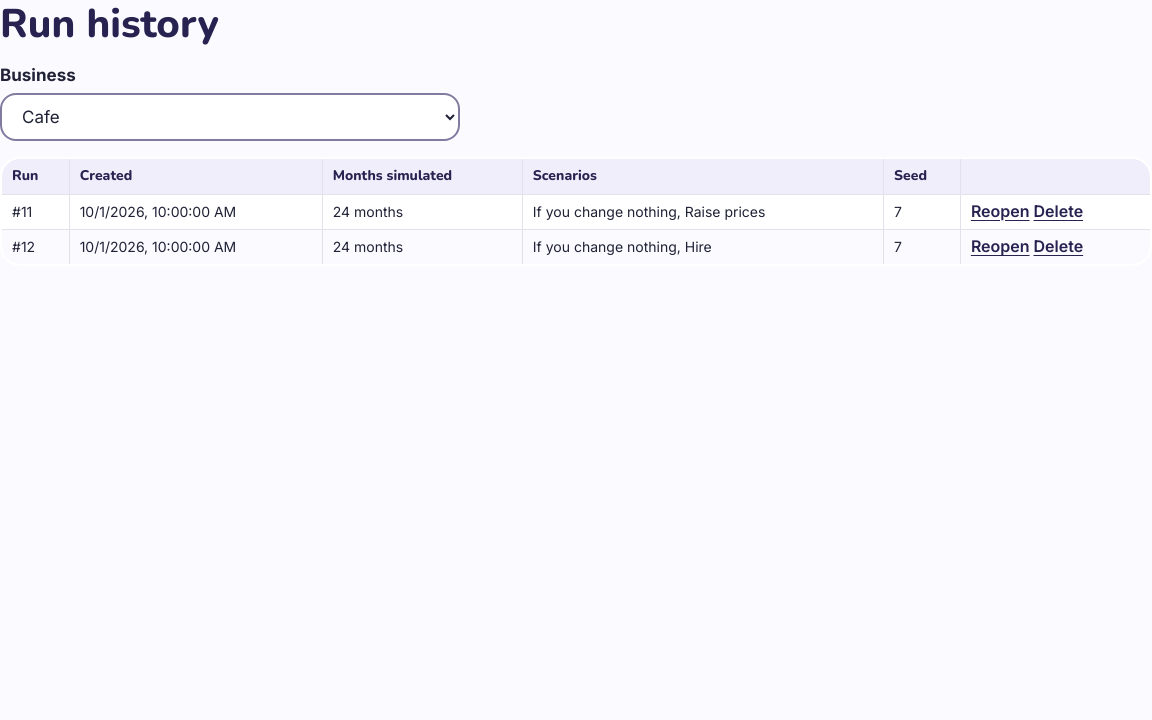
Test: run history: delete › confirming deletes it, refreshes the list and offers Undo
Click the button with aria-label "Delete run #11".
click(1058, 211)  # box [1034, 202, 1083, 221]
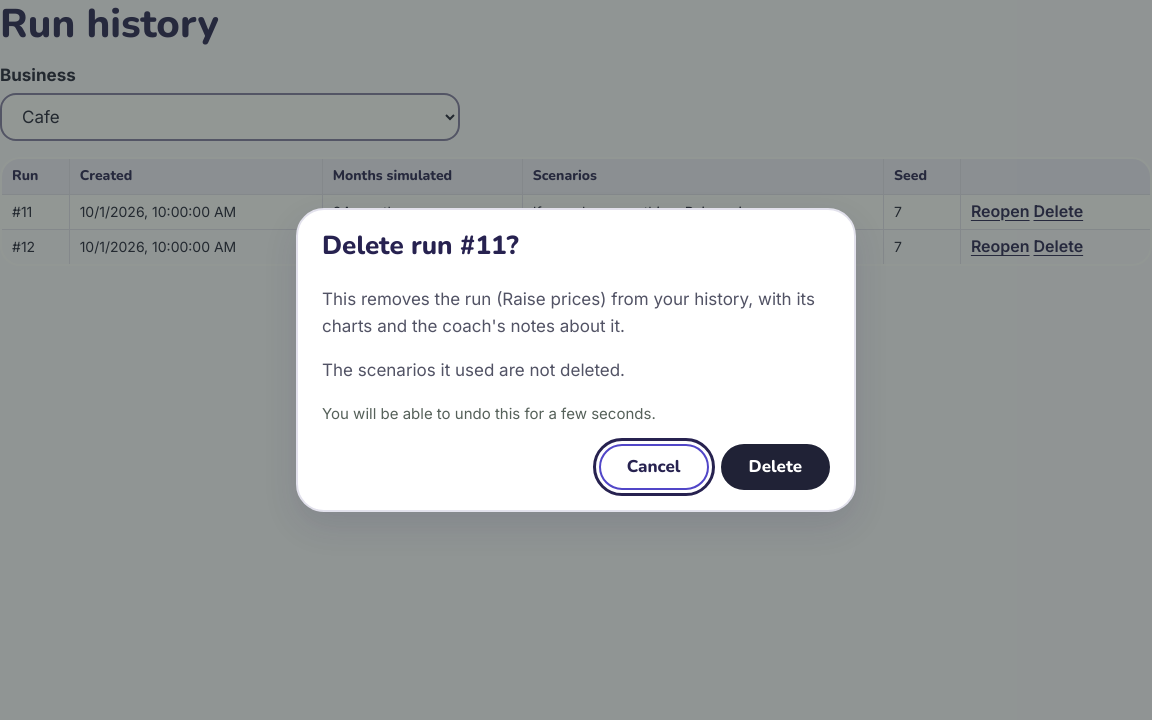
Click the button "Delete".
click(775, 467)  # box [720, 444, 830, 490]
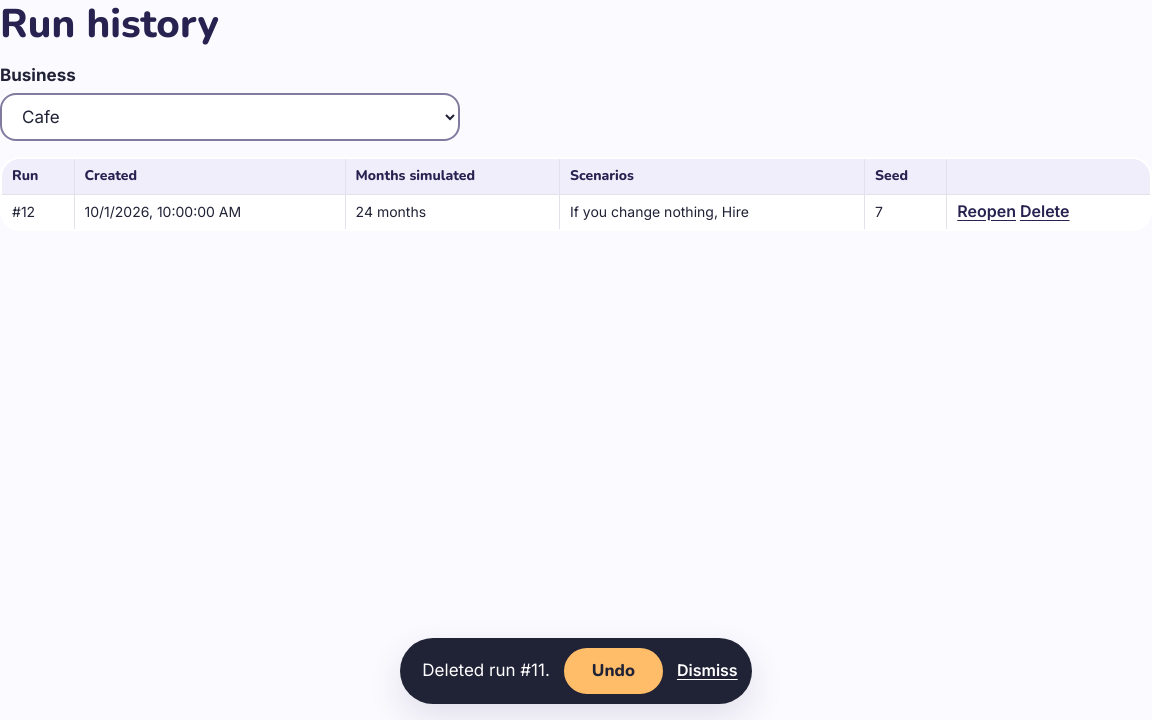
expect the button with aria-label "Delete run #12" is shown: met, box [1020, 202, 1070, 221]
expect the heading "Delete run #11" is gone: met
expect the message shows "Deleted run #11.": met, box [422, 660, 550, 680]
